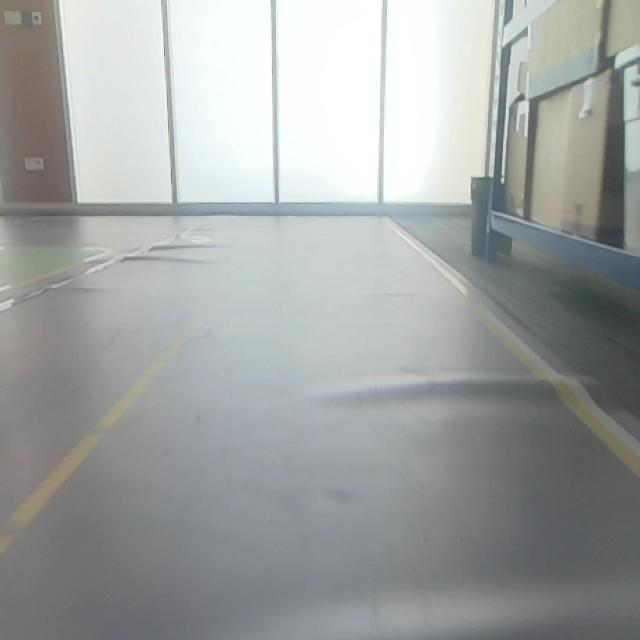left_lane: (0, 291, 224, 555)
right_lane: (387, 220, 640, 480)
